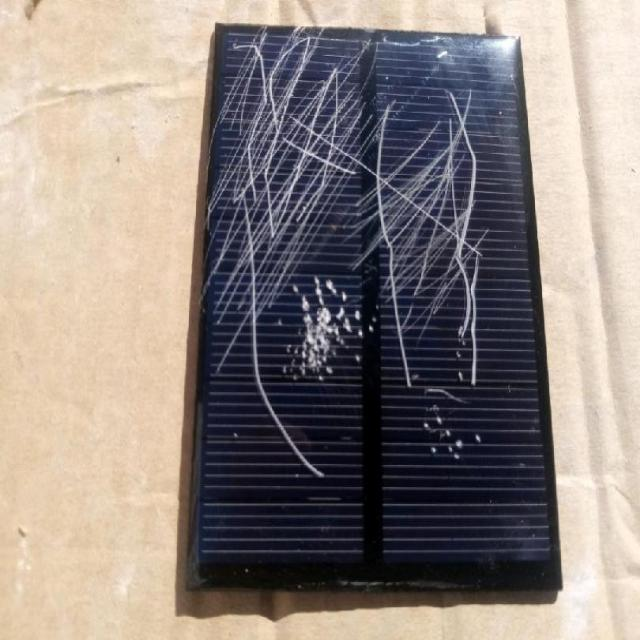faulty: (202, 17, 540, 600)
